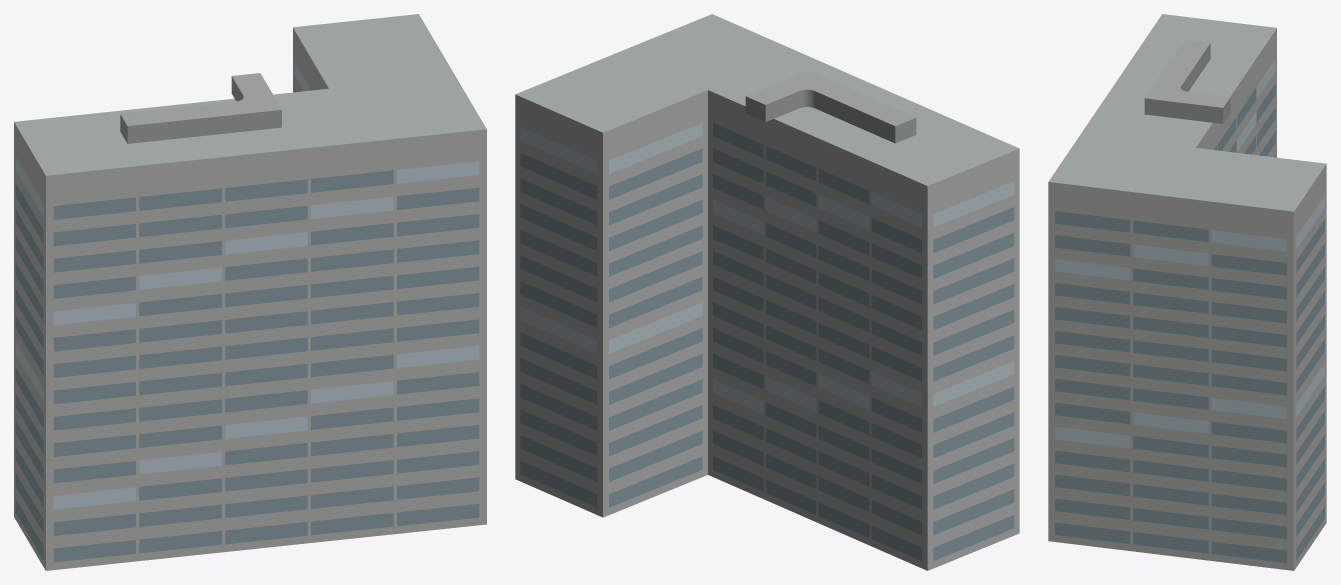
The model's file is fallback-olympic-park-foreon-207.glb.
3 renders of one model, left to right at view 1: azimuth 30°, elevation 25°; view 2: azimuth 150°, elevation 25°; view 3: azimuth 270°, elevation 25°, orthographic. The views are drawn at different scales.
Visible parts, largest first — view 1: fallback-olympic-park-foreon-207; view 2: fallback-olympic-park-foreon-207; view 3: fallback-olympic-park-foreon-207.
Part boxes in pixels (left/top/right/bottom): fallback-olympic-park-foreon-207: left=14, top=14, right=486, bottom=570; fallback-olympic-park-foreon-207: left=515, top=14, right=1019, bottom=570; fallback-olympic-park-foreon-207: left=1048, top=14, right=1326, bottom=570.
Size of the model in its own units: 53.98 by 47.81 by 32.12.
